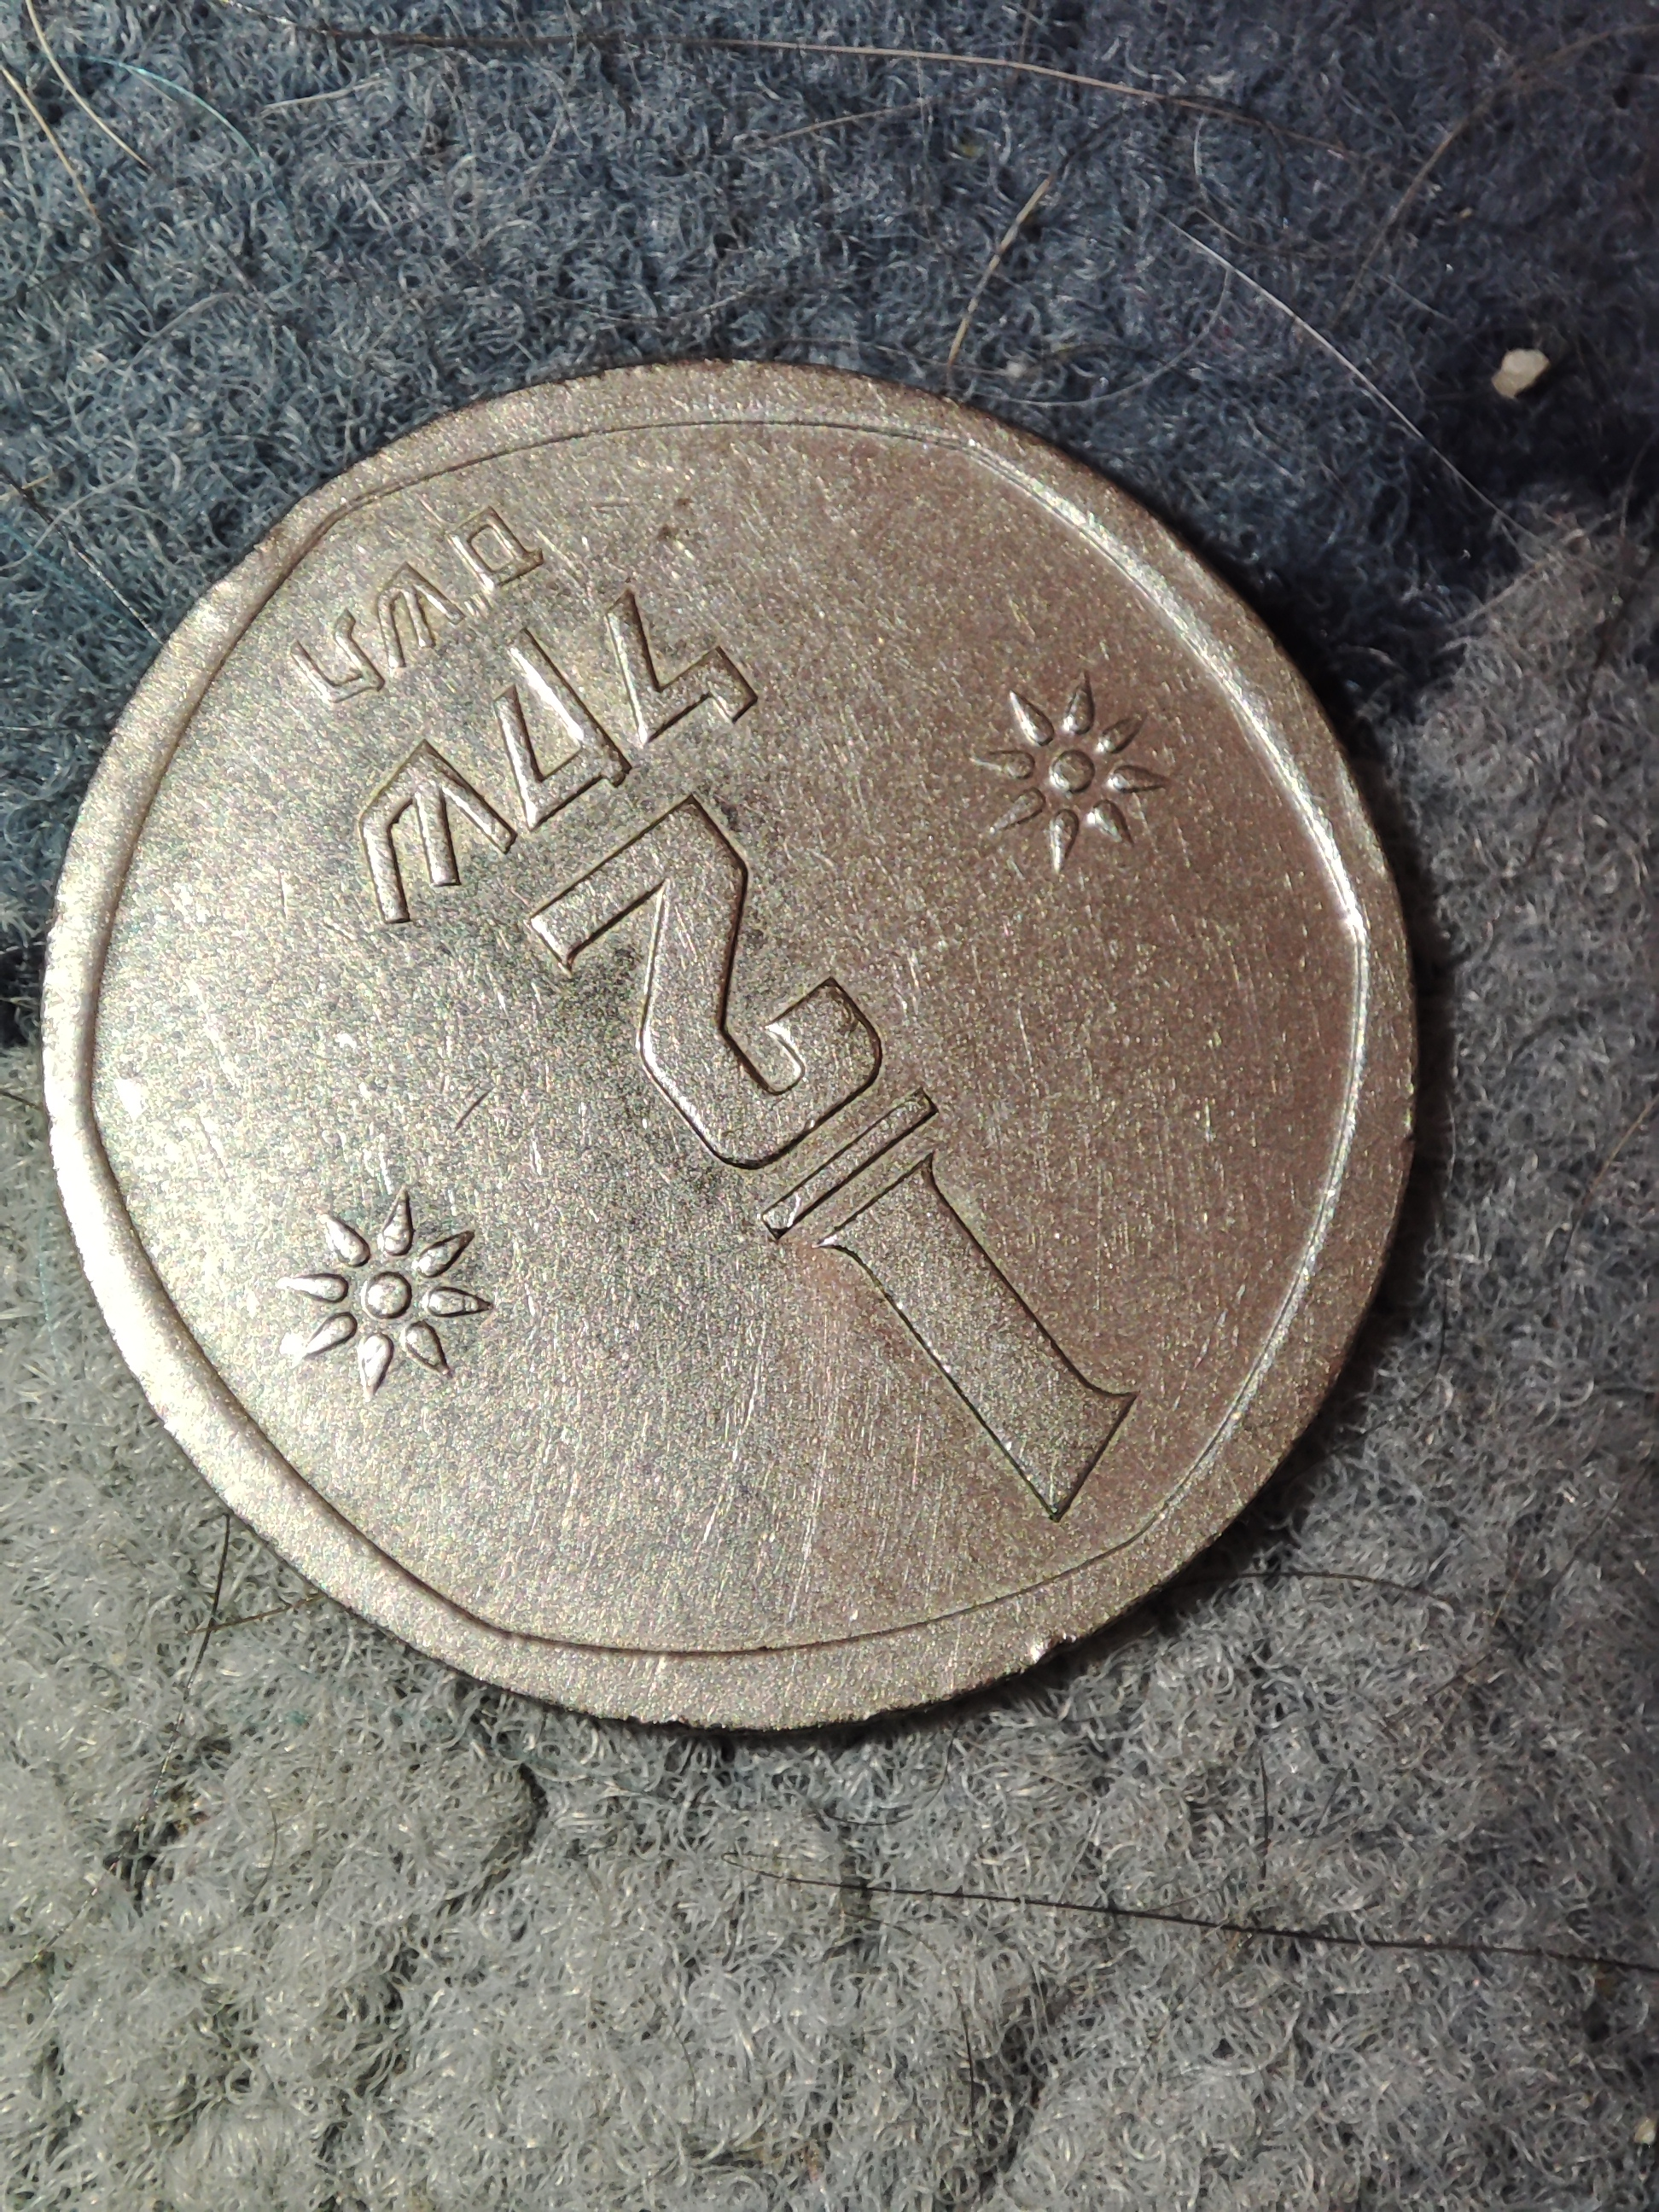1/2 old sheqel: (35, 354, 1432, 1743)
